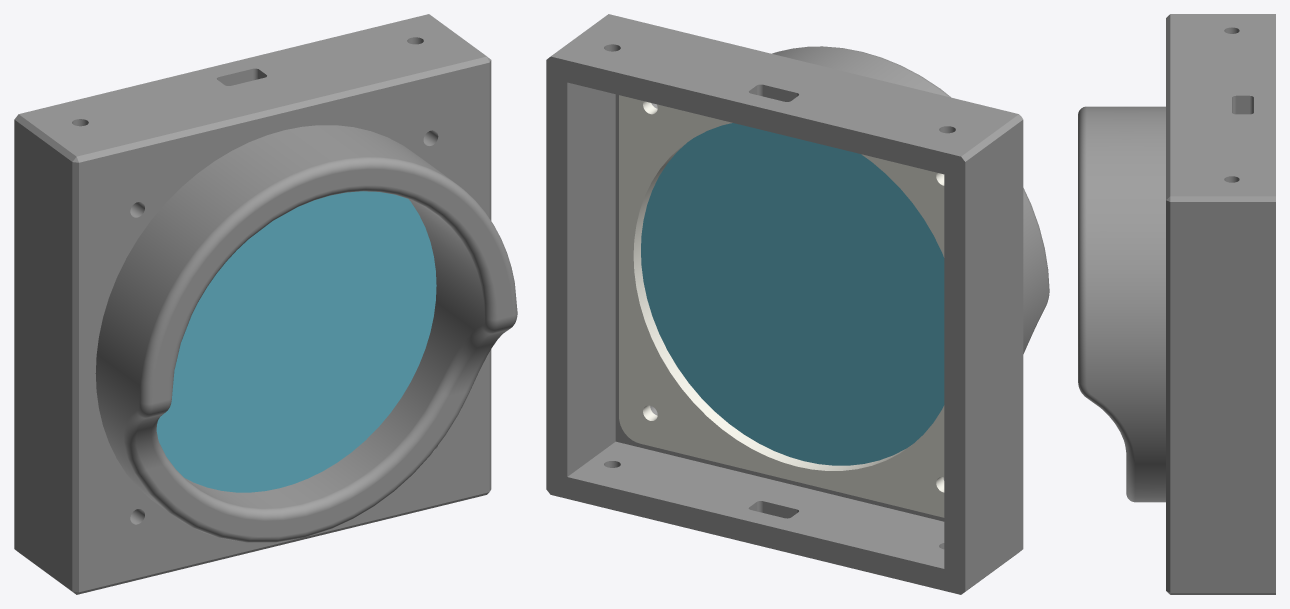
The model's file is Traffic lights v1.fbx.
The picture shows the model from 3 angles, left to right: view 1: azimuth 30°, elevation 25°; view 2: azimuth 150°, elevation 25°; view 3: azimuth 270°, elevation 25°; orthographic projection. The views are drawn at different scales.
Parts seen in each view (by area): view 1: Traffic light body, Lens; view 2: Traffic light body, Lens, Spacer; view 3: Traffic light body.
Boxes of the visible parts, x1,y1,x2,y2 form: Traffic light body: [14, 14, 517, 594]; Lens: [156, 191, 436, 492]; Traffic light body: [546, 14, 1049, 594]; Lens: [641, 123, 944, 465]; Spacer: [619, 95, 944, 517]; Traffic light body: [1078, 14, 1275, 594].
Bounding box in the file's own units: 100 × 100 × 45.
